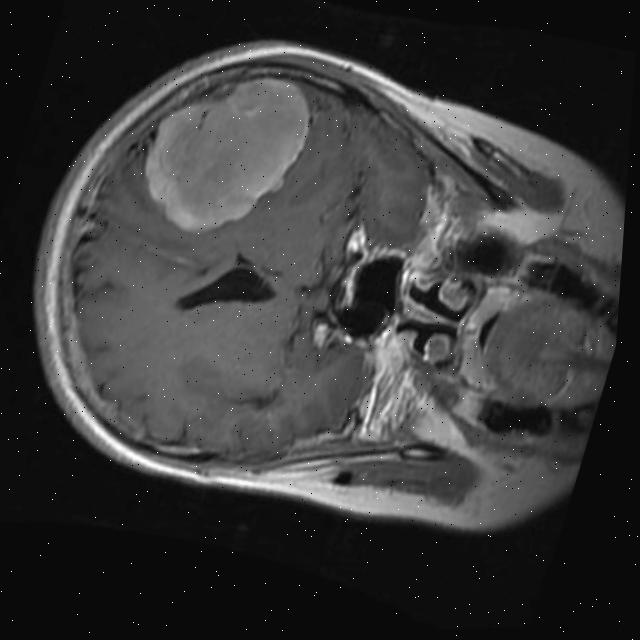Meningioma: (118, 46, 328, 256)
